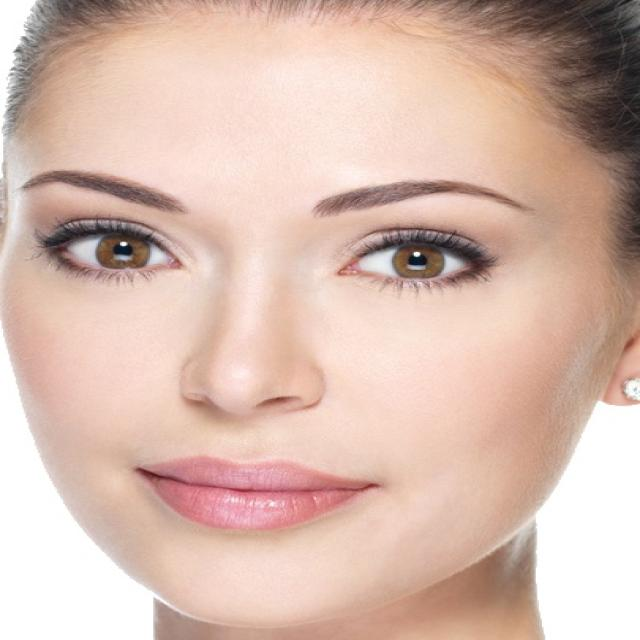0_rostro_limpio: (0, 8, 635, 627)
